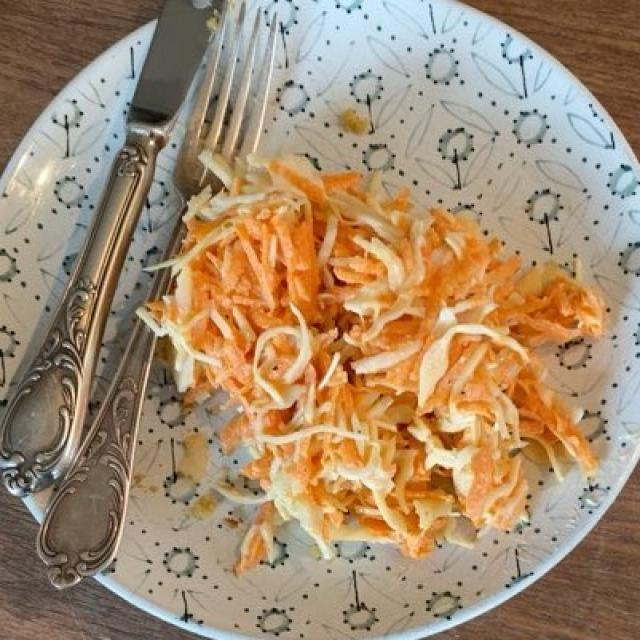carrot: (156, 159, 607, 551)
